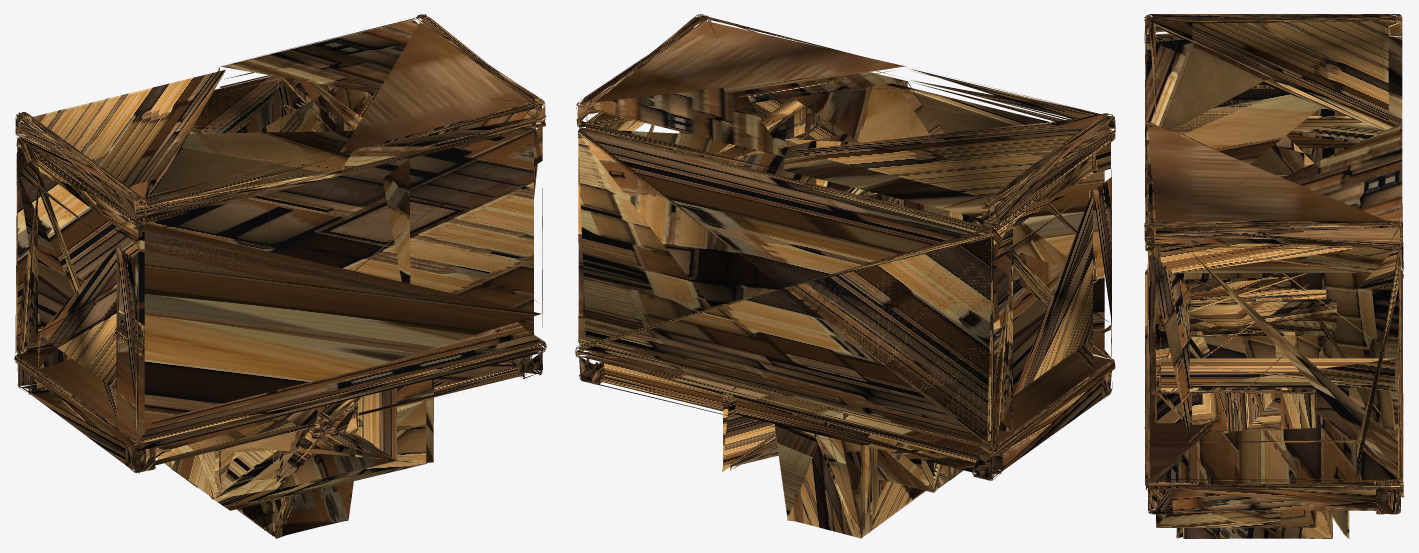
File: vintage_wooden_drawer_01.glb
The picture shows the model from 3 angles, left to right: view 1: azimuth 30°, elevation 25°; view 2: azimuth 150°, elevation 25°; view 3: azimuth 270°, elevation 25°; orthographic projection. The views are drawn at different scales.
Visible parts, largest first — view 1: vintage_wooden_drawer_01_body, vintage_wooden_drawer_01_drawer03, vintage_wooden_drawer_01_drawer05, vintage_wooden_drawer_01_drawer06, vintage_wooden_drawer_01_drawer02; view 2: vintage_wooden_drawer_01_body, vintage_wooden_drawer_01_drawer01, vintage_wooden_drawer_01_drawer05, vintage_wooden_drawer_01_drawer02, vintage_wooden_drawer_01_drawer04; view 3: vintage_wooden_drawer_01_body, vintage_wooden_drawer_01_drawer04, vintage_wooden_drawer_01_drawer02, vintage_wooden_drawer_01_drawer03, vintage_wooden_drawer_01_drawer01, vintage_wooden_drawer_01_drawer06, vintage_wooden_drawer_01_drawer05.
Boxes of the visible parts, x1,y1,x2,y2 form: vintage_wooden_drawer_01_body: (14, 14, 546, 473); vintage_wooden_drawer_01_drawer03: (171, 379, 433, 510); vintage_wooden_drawer_01_drawer05: (272, 388, 397, 489); vintage_wooden_drawer_01_drawer06: (271, 419, 353, 538); vintage_wooden_drawer_01_drawer02: (236, 421, 276, 536); vintage_wooden_drawer_01_body: (575, 14, 1115, 480); vintage_wooden_drawer_01_drawer01: (774, 424, 924, 538); vintage_wooden_drawer_01_drawer05: (722, 387, 848, 471); vintage_wooden_drawer_01_drawer02: (865, 446, 925, 532); vintage_wooden_drawer_01_drawer04: (877, 449, 963, 492); vintage_wooden_drawer_01_body: (1144, 14, 1403, 514); vintage_wooden_drawer_01_drawer04: (1191, 373, 1316, 527); vintage_wooden_drawer_01_drawer02: (1183, 278, 1332, 538); vintage_wooden_drawer_01_drawer03: (1155, 350, 1281, 527); vintage_wooden_drawer_01_drawer01: (1199, 279, 1349, 538); vintage_wooden_drawer_01_drawer06: (1176, 277, 1323, 538); vintage_wooden_drawer_01_drawer05: (1144, 322, 1404, 497).
Size of the model in its own units: 0.8576 by 0.7667 by 0.4433.
1 material, 1 textured.
